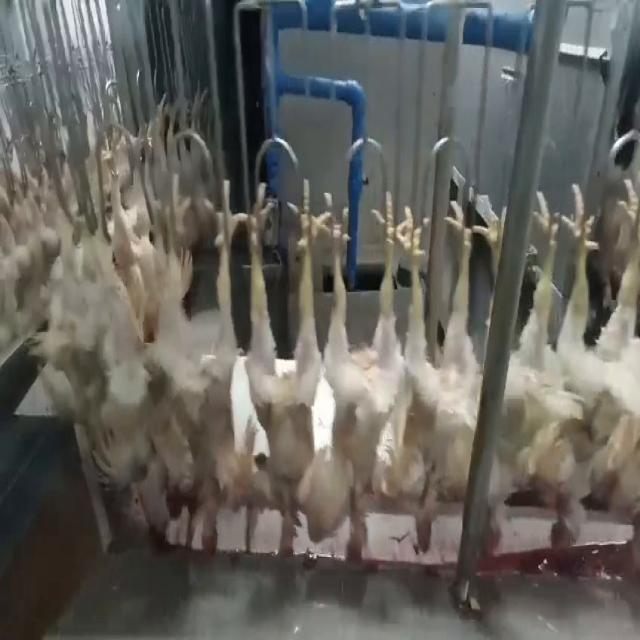chicken: (304, 182, 401, 575), (482, 188, 580, 543), (144, 173, 233, 562), (548, 177, 640, 549), (394, 196, 480, 560), (238, 170, 312, 572)
